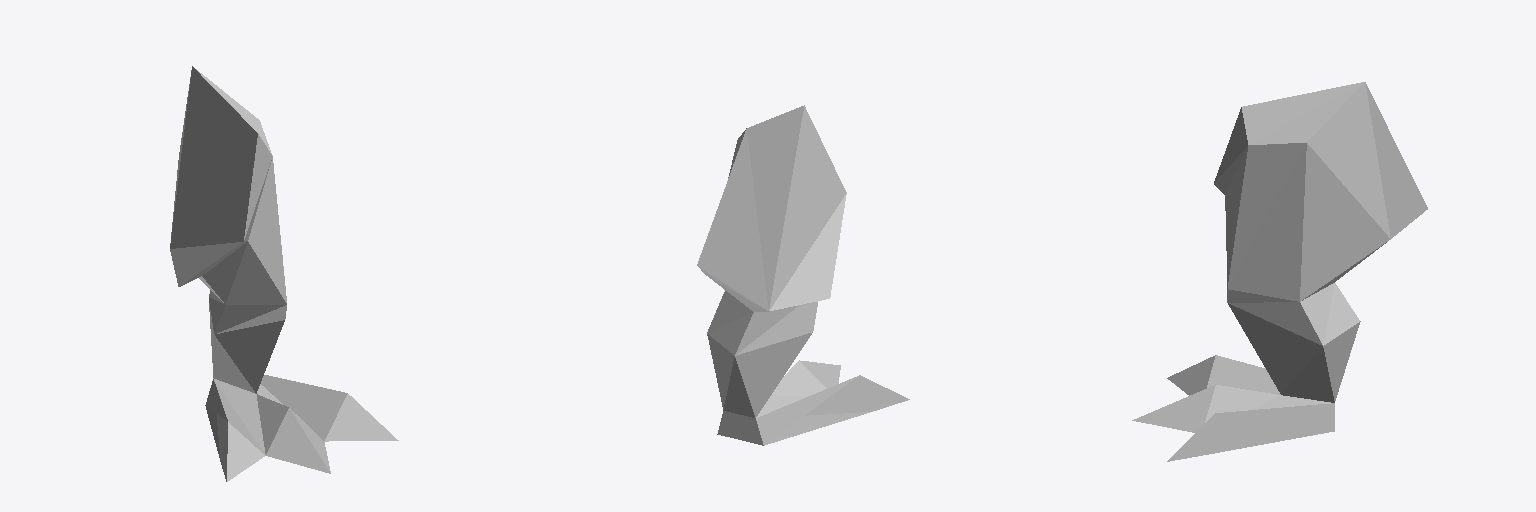
File: LEG2.obj
3 views of the same model, side by side, from view 1: azimuth 30°, elevation 25°; view 2: azimuth 150°, elevation 25°; view 3: azimuth 270°, elevation 25° (orthographic).
Parts seen in each view (by area): view 1: polySurface5; view 2: polySurface5; view 3: polySurface5.
Boxes of the visible parts, <box> form: polySurface5: <box>170,66,398,481</box>; polySurface5: <box>697,105,909,445</box>; polySurface5: <box>1132,82,1427,461</box>.
Bounding box in the file's own units: 0.2742 × 0.5001 × 0.4097.